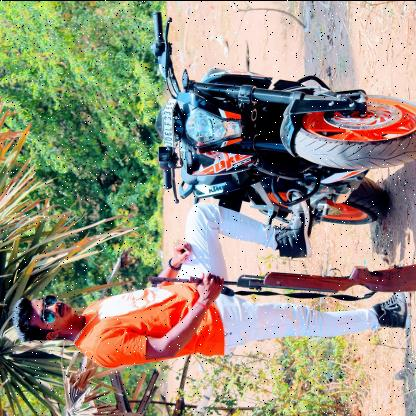rifle: (146, 262, 416, 294)
